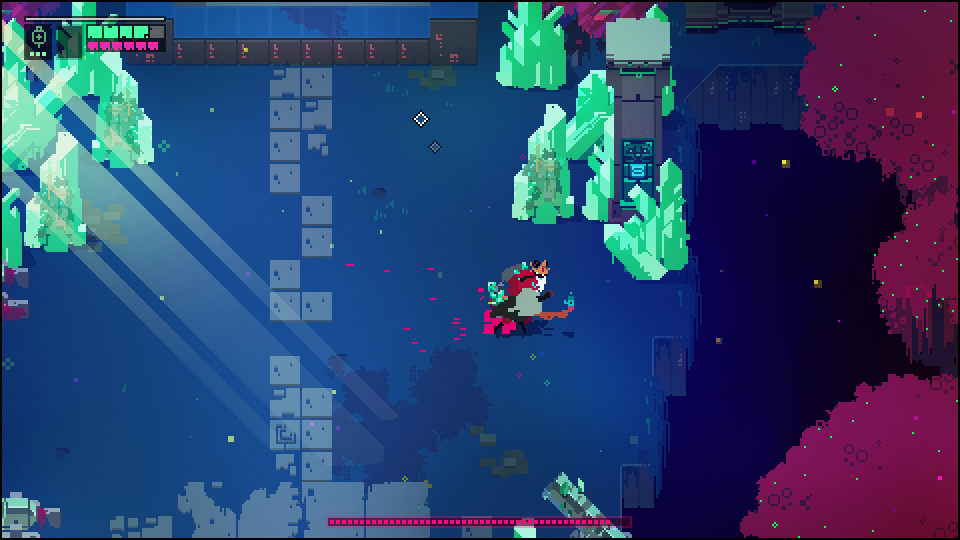hanged_man: (485, 256, 565, 330)
